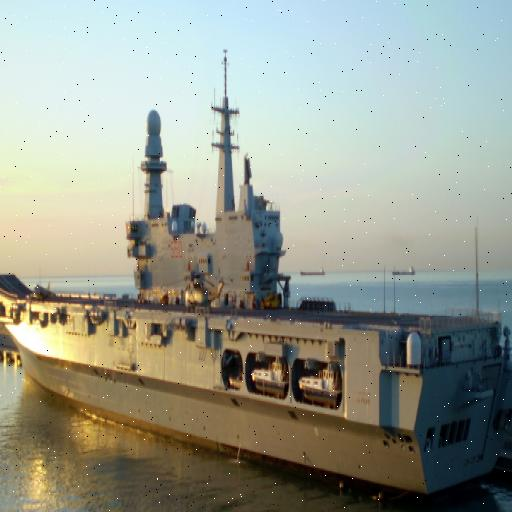Portanaves: (1, 43, 512, 506)
